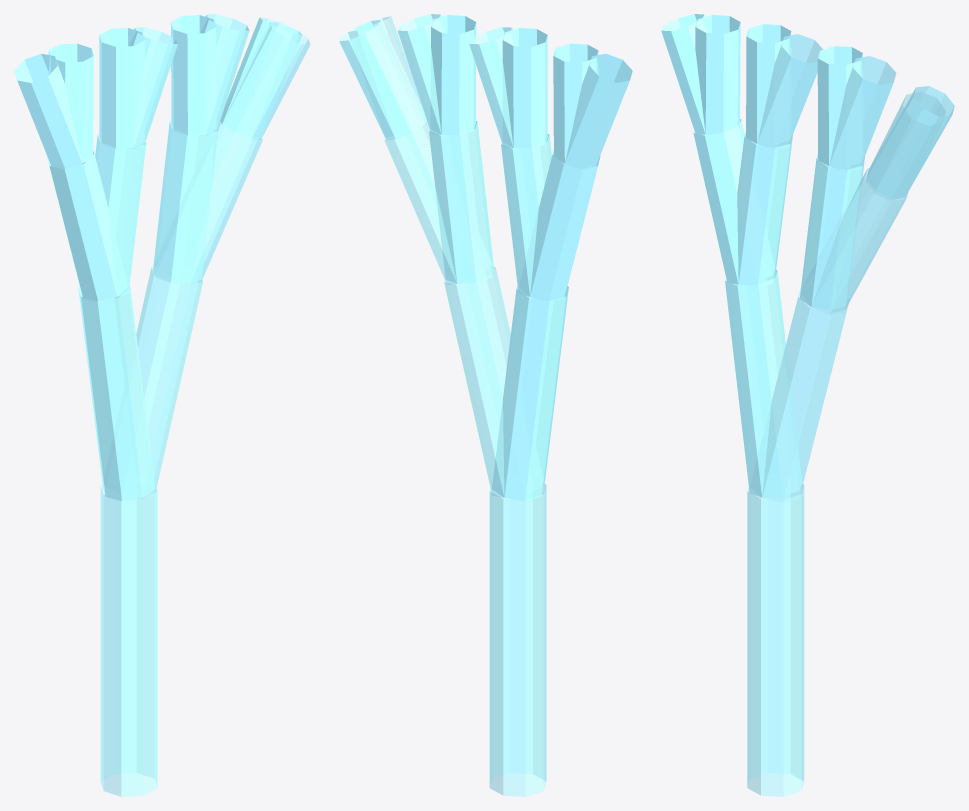
The model's file is gen1429-artistic-mature.glb.
3 views of the same model, side by side, from view 1: azimuth 30°, elevation 25°; view 2: azimuth 150°, elevation 25°; view 3: azimuth 330°, elevation 25° (orthographic).
Visible parts, largest first — view 1: branch_d4, branch_d3.001, branch_d3.002, branch_d3, branch_d2.001, branch_d2.002, branch_d2.004, branch_d2.005, branch_d1.001, branch_d1, branch_d2, branch_d1.010 (+14 smaller); view 2: branch_d4, branch_d3.001, branch_d3.002, branch_d3, branch_d2.001, branch_d2.002, branch_d2.004, branch_d2.005, branch_d1.001, branch_d1.002, branch_d1.010, branch_d2 (+14 smaller); view 3: branch_d4, branch_d3.001, branch_d3, branch_d3.002, branch_d2.001, branch_d2.003, branch_d2, branch_d2.006, branch_d1.001, branch_d1.012, branch_d1.015, branch_d2.004 (+14 smaller).
Part boxes in pixels (box(x1,y1,x2,y2)): branch_d4: box(100, 484, 157, 796); branch_d3.001: box(78, 286, 154, 500); branch_d3.002: box(78, 286, 144, 499); branch_d3: box(104, 267, 202, 497); branch_d2.001: box(153, 121, 218, 283); branch_d2.002: box(153, 121, 217, 283); branch_d2.004: box(47, 150, 116, 300); branch_d2.005: box(47, 152, 116, 300); branch_d1.001: box(220, 17, 301, 137); branch_d1: box(222, 22, 310, 140); branch_d2: box(155, 122, 262, 284); branch_d1.010: box(99, 28, 144, 148); branch_d4: box(489, 484, 546, 796); branch_d3.001: box(492, 286, 568, 500); branch_d3.002: box(503, 287, 568, 499); branch_d3: box(444, 267, 542, 497); branch_d2.001: box(429, 121, 493, 283); branch_d2.002: box(429, 121, 493, 283); branch_d2.004: box(530, 150, 600, 300); branch_d2.005: box(530, 151, 599, 300); branch_d1.001: box(339, 20, 426, 139); branch_d1.002: box(339, 20, 424, 139); branch_d1.010: box(502, 28, 547, 148); branch_d2: box(384, 122, 491, 284); branch_d4: box(747, 484, 804, 796); branch_d3.001: box(725, 270, 801, 497); branch_d3: box(753, 288, 848, 502); branch_d3.002: box(725, 270, 785, 497); branch_d2.001: box(800, 154, 864, 309); branch_d2.003: box(737, 132, 792, 285); branch_d2: box(806, 168, 907, 314); branch_d2.006: box(737, 133, 792, 284); branch_d1.001: box(867, 86, 954, 198); branch_d1.012: box(695, 15, 740, 134); branch_d1.015: box(695, 15, 740, 134); branch_d2.004: box(693, 119, 744, 284).
Size of the model in its own units: 0.3645 by 0.9165 by 0.0726.
